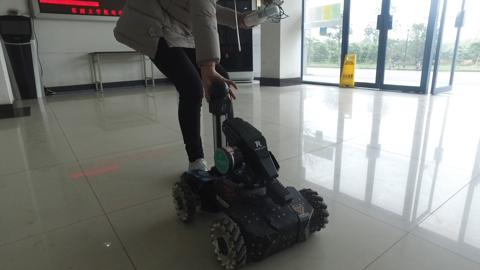chariot: (167, 76, 334, 270)
